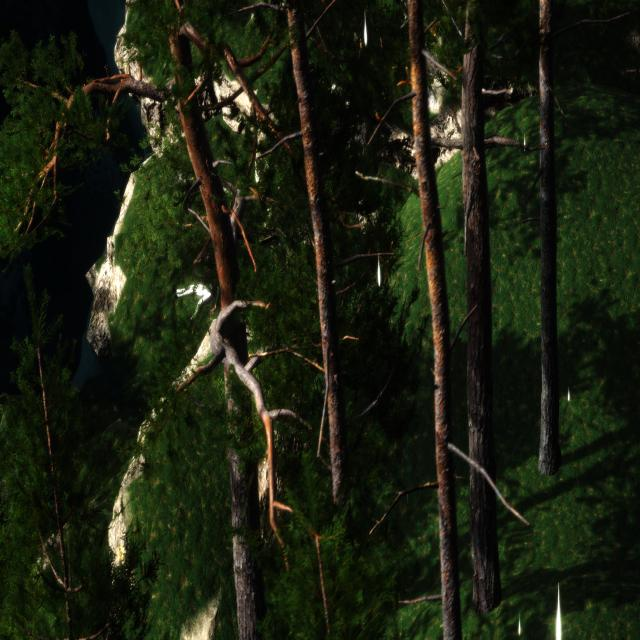Human: (175, 260, 222, 323)
